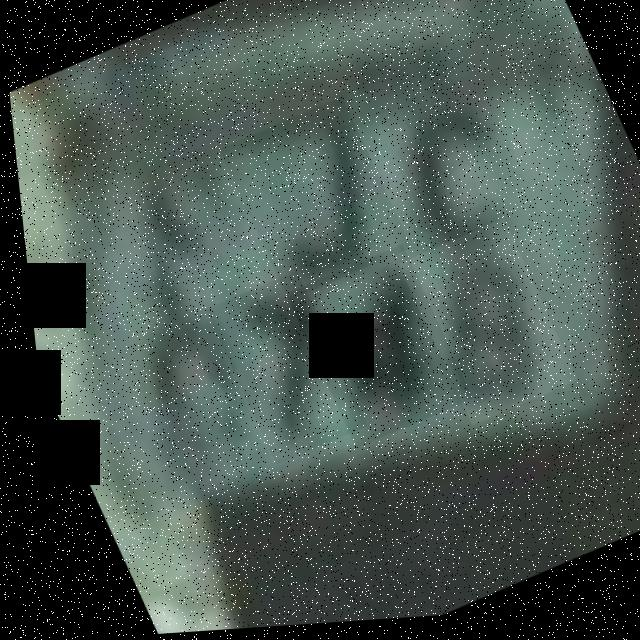4: (275, 246, 467, 455)
7: (196, 271, 360, 470)
8: (388, 222, 572, 434)
C: (337, 74, 543, 287)
J: (212, 98, 409, 306)
